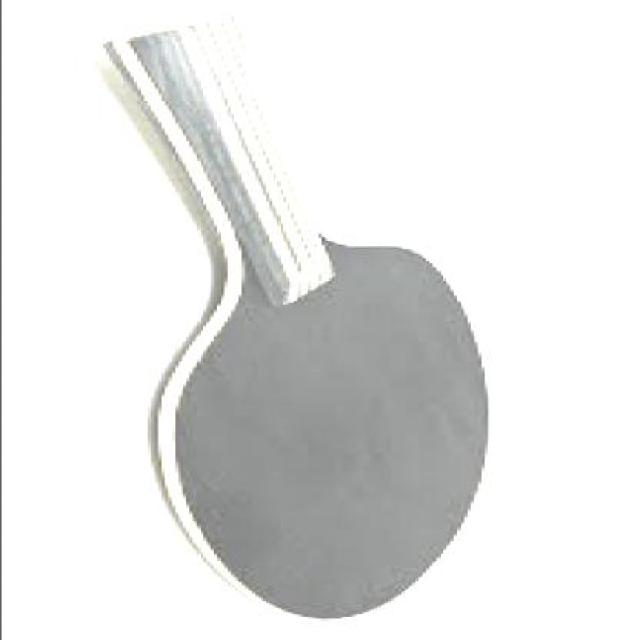table_tennis_racket: (100, 22, 491, 623)
